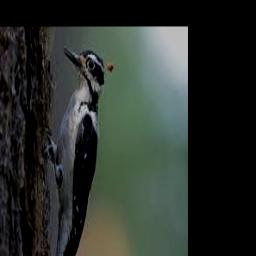Woodpecker: (45, 47, 114, 256)
